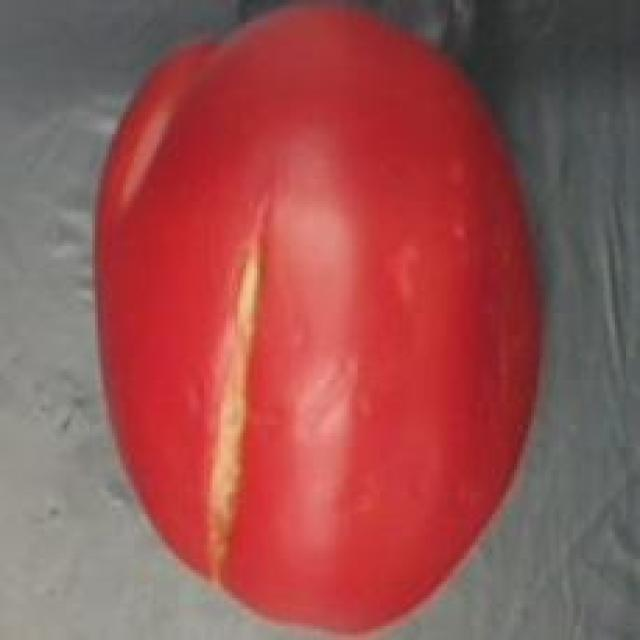overripe tomato: (81, 5, 570, 640)
